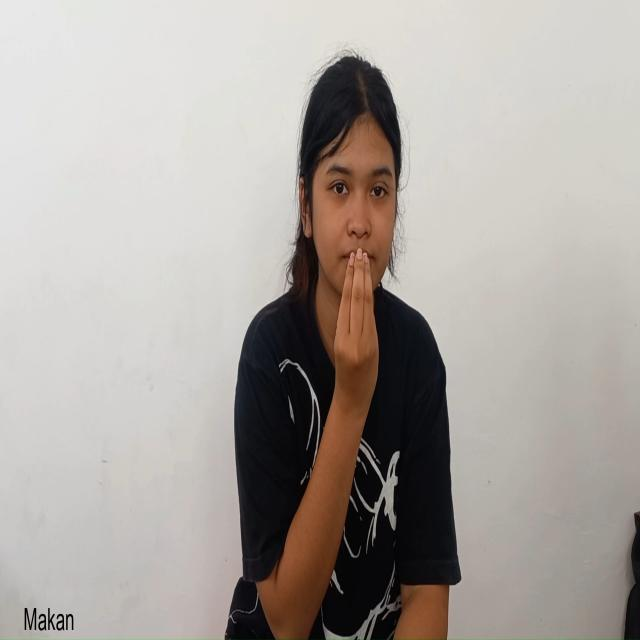Makan -BISINDO-: (297, 53, 401, 420)
